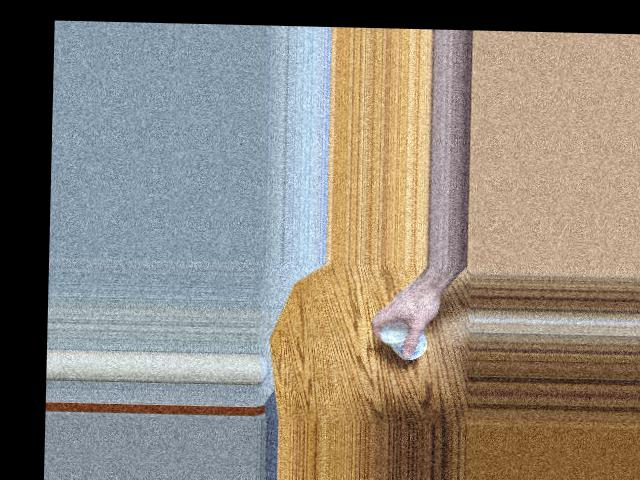cotage: (369, 317, 423, 362)
